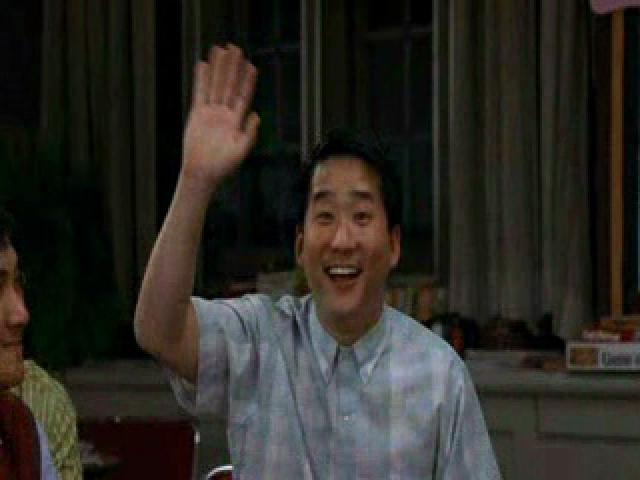T: (117, 30, 500, 480)
